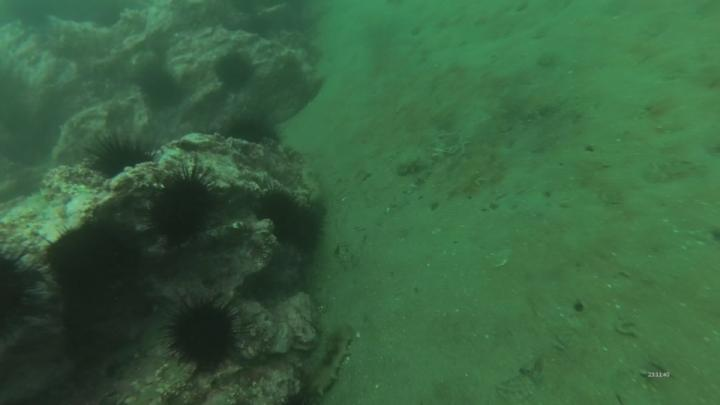echinus: (30, 218, 141, 298), (162, 285, 251, 383), (152, 159, 227, 241), (83, 131, 162, 178), (253, 178, 303, 239), (138, 62, 180, 112), (212, 48, 259, 89)
holothurian: (305, 321, 356, 401)
